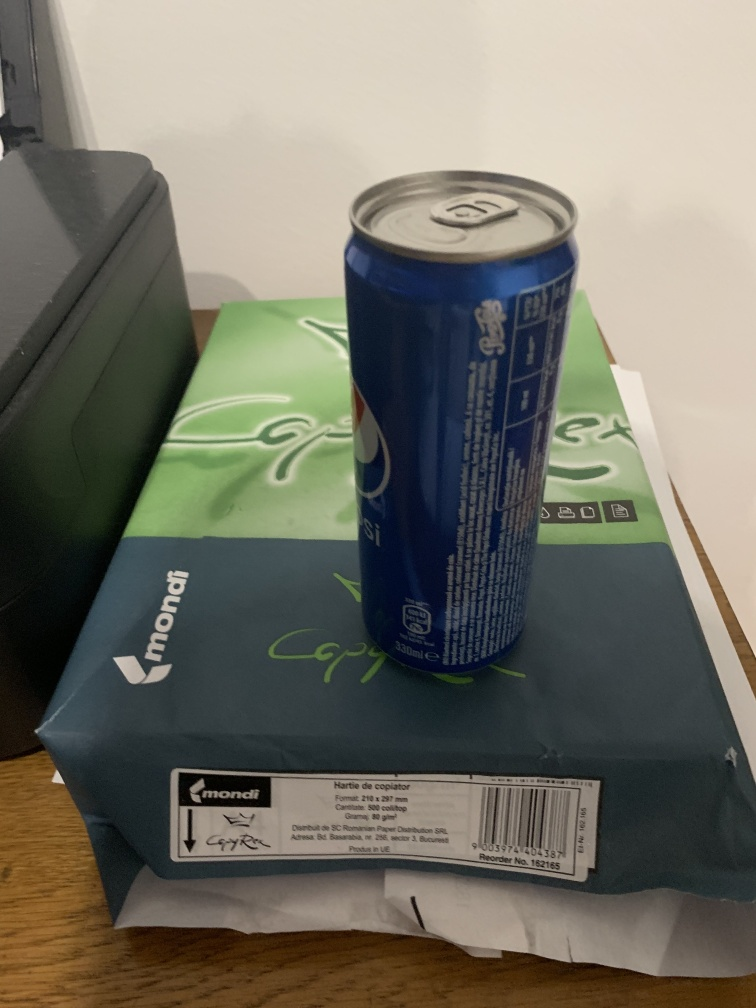pepsi: (340, 168, 581, 685)
